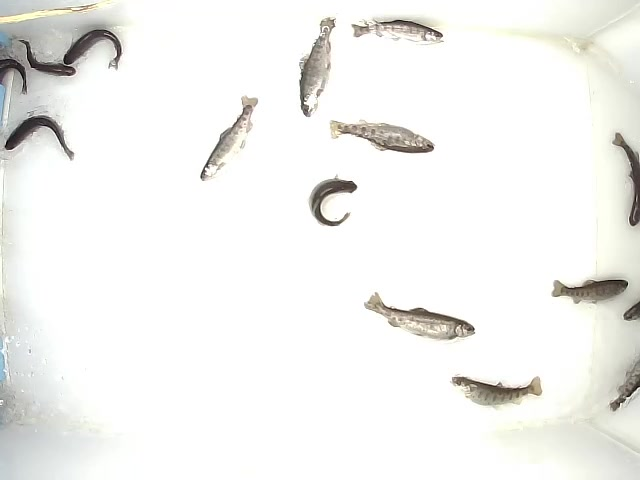fish: (362, 290, 477, 342), (198, 94, 259, 182), (299, 14, 338, 118), (328, 119, 437, 156), (4, 114, 76, 163), (450, 374, 544, 407), (308, 173, 358, 229), (611, 131, 640, 227), (350, 18, 445, 47), (63, 27, 124, 72), (16, 37, 78, 77), (551, 278, 629, 306), (608, 359, 640, 414), (1, 58, 27, 95), (622, 299, 640, 322)
